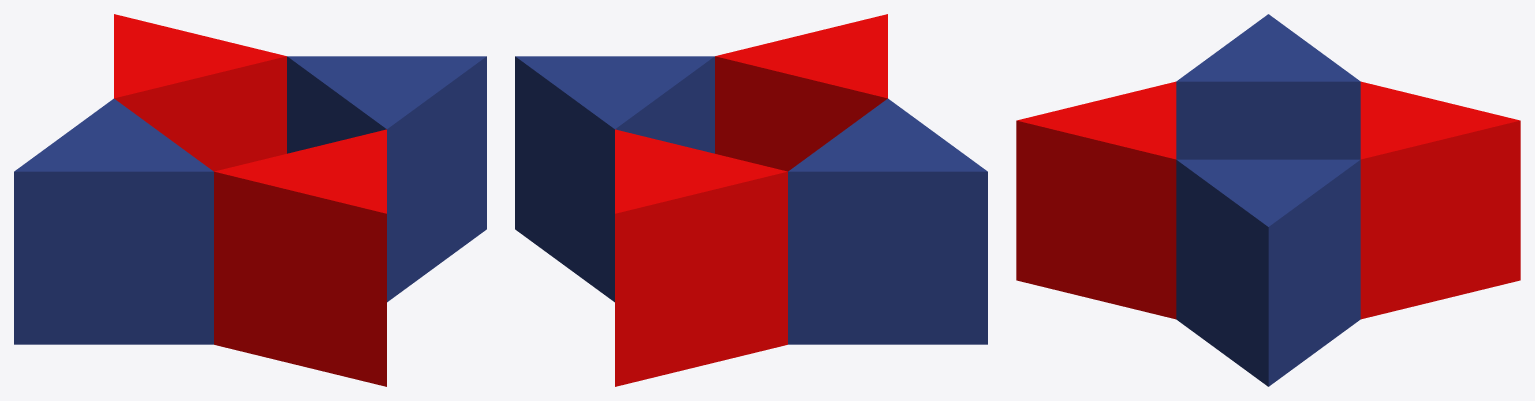
The picture shows the model from 3 angles, left to right: view 1: azimuth 30°, elevation 25°; view 2: azimuth 150°, elevation 25°; view 3: azimuth 270°, elevation 25°; orthographic projection. The views are drawn at different scales.
Parts seen in each view (by area): view 1: primitive_cone_glb; view 2: primitive_cone_glb; view 3: primitive_cone_glb.
Part boxes in pixels (x1,y1,x2,y2): primitive_cone_glb: (14, 14, 486, 386); primitive_cone_glb: (515, 14, 987, 386); primitive_cone_glb: (1016, 14, 1520, 386).
Bounding box in the file's own units: 1.24 × 0.4341 × 1.24.
1 material, 1 textured.
